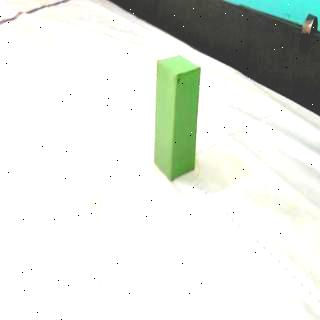greenbox: (152, 52, 203, 180)
